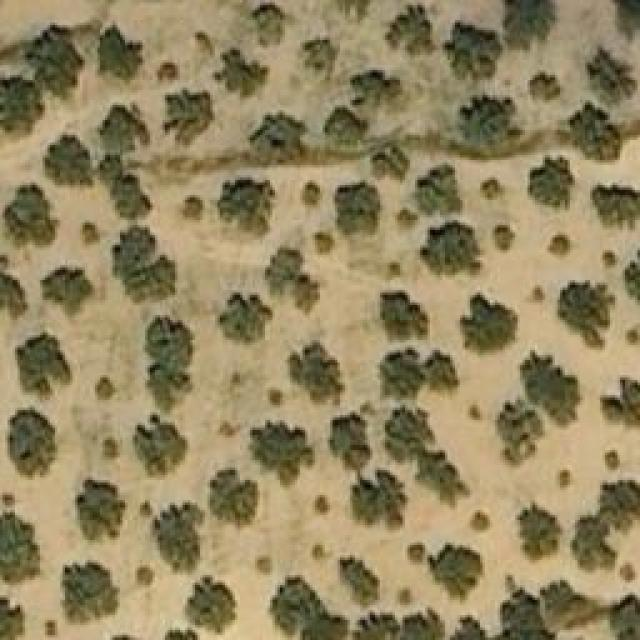Tree: (100, 220, 184, 302), (415, 448, 494, 525), (455, 293, 525, 364), (545, 578, 625, 640), (347, 468, 416, 538), (520, 348, 588, 419), (30, 13, 91, 87), (448, 95, 517, 160), (555, 268, 614, 343), (562, 92, 626, 161), (205, 462, 274, 526), (382, 0, 447, 67), (148, 503, 211, 572), (375, 280, 437, 349), (445, 22, 507, 91), (314, 100, 374, 170), (253, 413, 312, 484), (278, 575, 341, 640), (215, 170, 276, 237), (52, 555, 118, 615), (8, 408, 63, 480), (287, 340, 351, 401), (52, 130, 119, 188), (0, 187, 62, 249), (382, 403, 446, 463), (497, 585, 565, 640), (333, 172, 387, 241), (565, 518, 626, 579), (505, 505, 564, 567), (347, 65, 415, 118), (530, 157, 583, 225), (323, 410, 383, 470), (370, 346, 428, 408), (425, 218, 483, 280), (8, 331, 71, 388), (163, 85, 218, 150), (210, 45, 275, 99), (95, 23, 152, 83), (413, 160, 462, 228), (218, 283, 274, 342), (430, 538, 482, 601), (2, 513, 41, 597), (143, 313, 199, 369), (45, 263, 95, 324), (255, 113, 310, 168), (185, 570, 238, 627), (133, 418, 185, 476), (275, 248, 325, 307), (582, 178, 639, 229), (80, 475, 124, 541), (495, 400, 542, 460), (98, 105, 150, 156), (600, 376, 639, 444), (595, 475, 640, 528), (300, 38, 343, 93), (505, 0, 553, 48), (370, 138, 416, 187), (345, 555, 386, 609), (0, 80, 34, 145), (588, 50, 632, 99), (110, 175, 156, 219), (252, 0, 296, 42), (0, 263, 35, 315), (520, 65, 565, 104), (145, 368, 194, 402), (398, 603, 442, 640), (0, 595, 35, 640), (175, 190, 214, 229), (352, 607, 395, 640), (93, 370, 127, 410), (470, 170, 501, 208), (490, 220, 523, 250), (622, 258, 640, 313), (295, 178, 323, 212), (455, 610, 483, 640), (553, 230, 576, 266), (603, 253, 624, 279)
